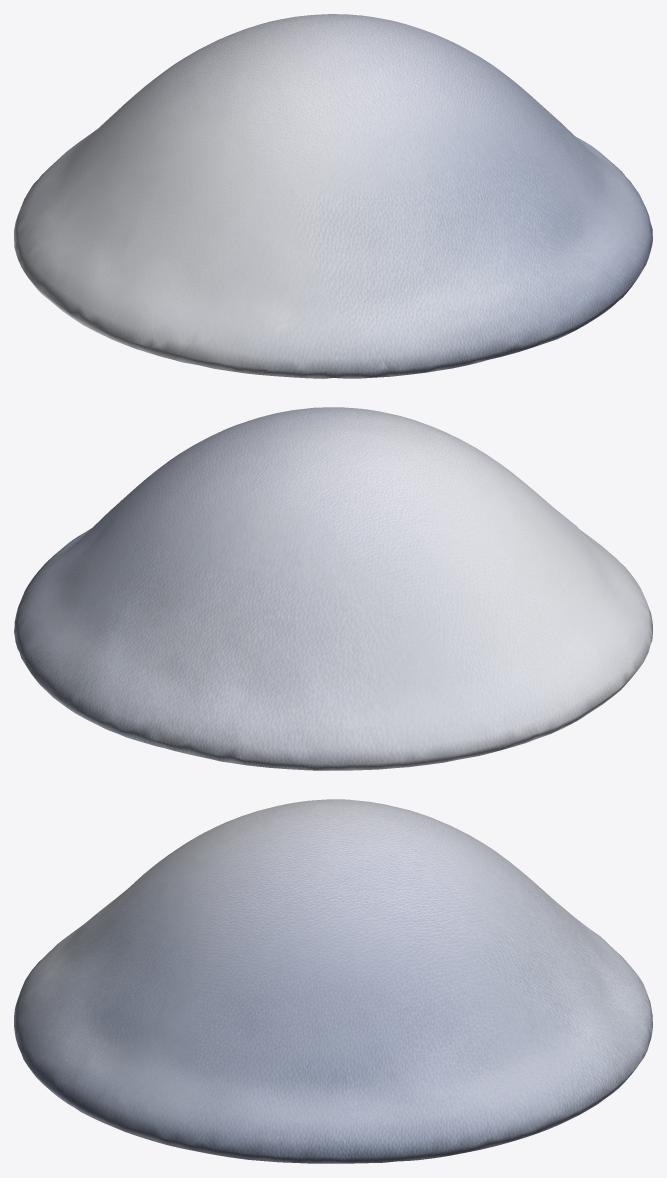
Rendered from PR_SnowSoft_Dome.fbx.
3 renders of one model, top to bottom at view 1: azimuth 30°, elevation 25°; view 2: azimuth 150°, elevation 25°; view 3: azimuth 270°, elevation 25°, orthographic.
Visible parts, largest first — view 1: texture_mapping; view 2: texture_mapping; view 3: texture_mapping.
Boxes of the visible parts, left/top/right/bottom form: texture_mapping: left=14, top=14, right=652, bottom=378; texture_mapping: left=14, top=407, right=652, bottom=770; texture_mapping: left=14, top=799, right=652, bottom=1163.
Size of the model in its own units: 1 by 1 by 0.3714.
1 material, 1 textured.
